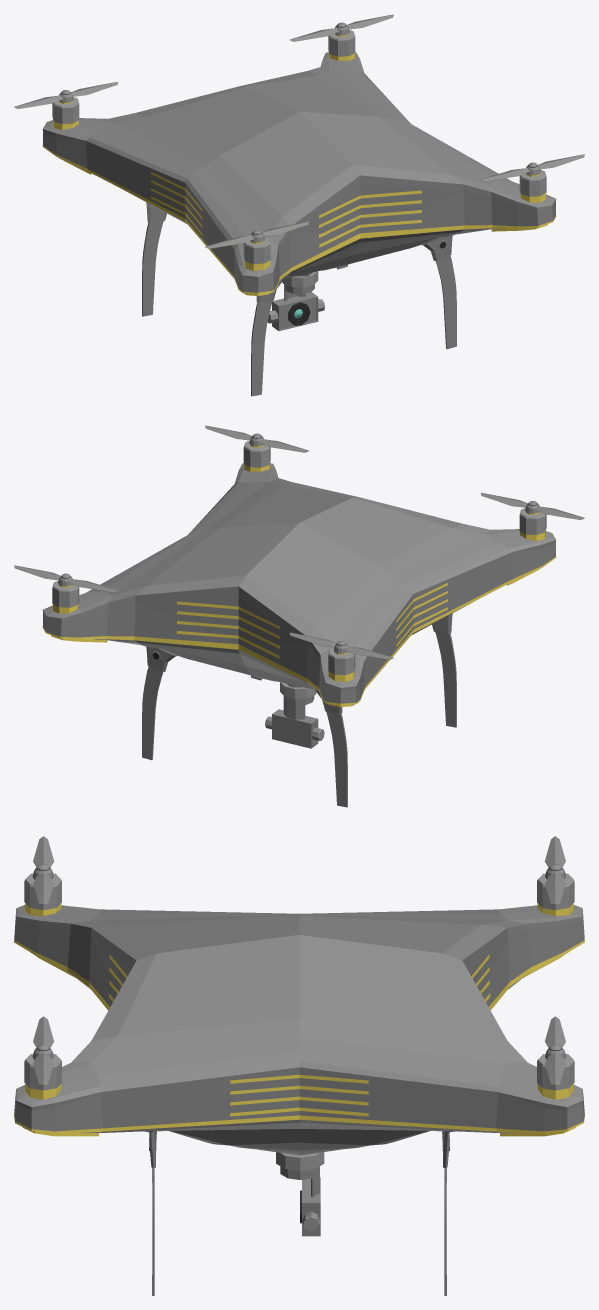
The model's file is dron_2_body_root.fbx.
The picture shows the model from 3 angles, top to bottom: view 1: azimuth 30°, elevation 25°; view 2: azimuth 150°, elevation 25°; view 3: azimuth 270°, elevation 25°; orthographic projection. The views are drawn at different scales.
Visible parts, largest first — view 1: dron_2_body, camera, BL_propeller, FL_propeller, BR_propeller, FR_propeller; view 2: dron_2_body, camera, FL_propeller, BL_propeller, FR_propeller, BR_propeller; view 3: dron_2_body, camera, BR_propeller, FR_propeller, BL_propeller, FL_propeller.
Part boxes in pixels (box(x1,y1,x2,y2)): dron_2_body: box(42, 30, 556, 396); camera: box(267, 284, 324, 330); BL_propeller: box(290, 14, 393, 41); FL_propeller: box(481, 154, 584, 181); BR_propeller: box(14, 82, 118, 108); FR_propeller: box(205, 221, 308, 248); dron_2_body: box(42, 441, 556, 807); camera: box(265, 695, 324, 748); FL_propeller: box(205, 425, 308, 452); BL_propeller: box(14, 565, 117, 592); FR_propeller: box(480, 493, 584, 519); BR_propeller: box(290, 632, 393, 659); dron_2_body: box(14, 873, 584, 1295); camera: box(280, 1166, 320, 1236); BR_propeller: box(544, 836, 566, 904); FR_propeller: box(32, 836, 54, 904); BL_propeller: box(545, 1016, 566, 1084); FL_propeller: box(32, 1016, 53, 1084).
Bounding box in the file's own units: 271 × 150 × 264.
2 materials, 2 textured.
